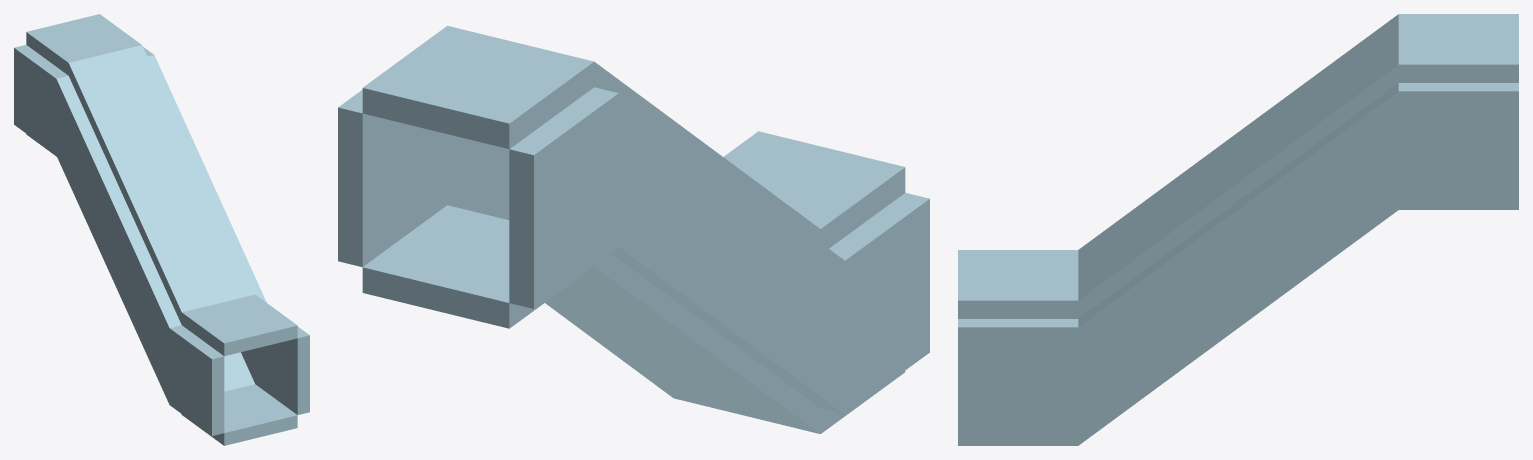
The model's file is stairs22.fbx.
3 renders of one model, left to right at view 1: azimuth 30°, elevation 25°; view 2: azimuth 150°, elevation 25°; view 3: azimuth 270°, elevation 25°, orthographic. The views are drawn at different scales.
Visible parts, largest first — view 1: cuboid_2, cuboid, plane_5, plane_3, plane_7, plane, plane_4, plane_2, cuboid_1, cuboid_3; view 2: cuboid, plane_7, cuboid_3, plane, plane_5, plane_6, plane_1, plane_3, cuboid_1, cuboid_2; view 3: cuboid_1, cuboid_2, plane_4, plane_6, plane, plane_3, cuboid_3, plane_1, plane_2.
Part boxes in pixels (x1=…): cuboid_2: x1=68, y1=45, x2=254, y2=324; cuboid: x1=56, y1=76, x2=181, y2=404; plane_5: x1=169, y1=325, x2=224, y2=435; plane_3: x1=181, y1=294, x2=297, y2=356; plane_7: x1=14, y1=45, x2=68, y2=154; plane: x1=26, y1=14, x2=141, y2=75; plane_4: x1=255, y1=326, x2=309, y2=414; plane_2: x1=181, y1=384, x2=297, y2=445; cuboid_1: x1=147, y1=55, x2=266, y2=383; cuboid_3: x1=224, y1=352, x2=254, y2=391; cuboid: x1=611, y1=93, x2=844, y2=414; plane_7: x1=509, y1=87, x2=618, y2=308; cuboid_3: x1=545, y1=253, x2=820, y2=433; plane: x1=362, y1=26, x2=594, y2=149; plane_5: x1=829, y1=192, x2=929, y2=414; plane_6: x1=338, y1=90, x2=447, y2=267; plane_1: x1=362, y1=205, x2=594, y2=328; plane_3: x1=723, y1=131, x2=905, y2=248; cuboid_1: x1=447, y1=134, x2=509, y2=219; cuboid_2: x1=594, y1=62, x2=820, y2=242; cuboid_1: x1=1078, y1=83, x2=1398, y2=435; cuboid_2: x1=1078, y1=14, x2=1398, y2=318; plane_4: x1=958, y1=319, x2=1078, y2=436; plane_6: x1=1398, y1=83, x2=1518, y2=200; plane: x1=1398, y1=14, x2=1518, y2=82; plane_3: x1=958, y1=250, x2=1078, y2=318; cuboid_3: x1=1078, y1=200, x2=1398, y2=445; plane_1: x1=1398, y1=200, x2=1518, y2=209; plane_2: x1=958, y1=436, x2=1078, y2=445.
Bounding box in the file's own units: 50 × 131 × 175.
Materials: 2 (2 with a texture image).
